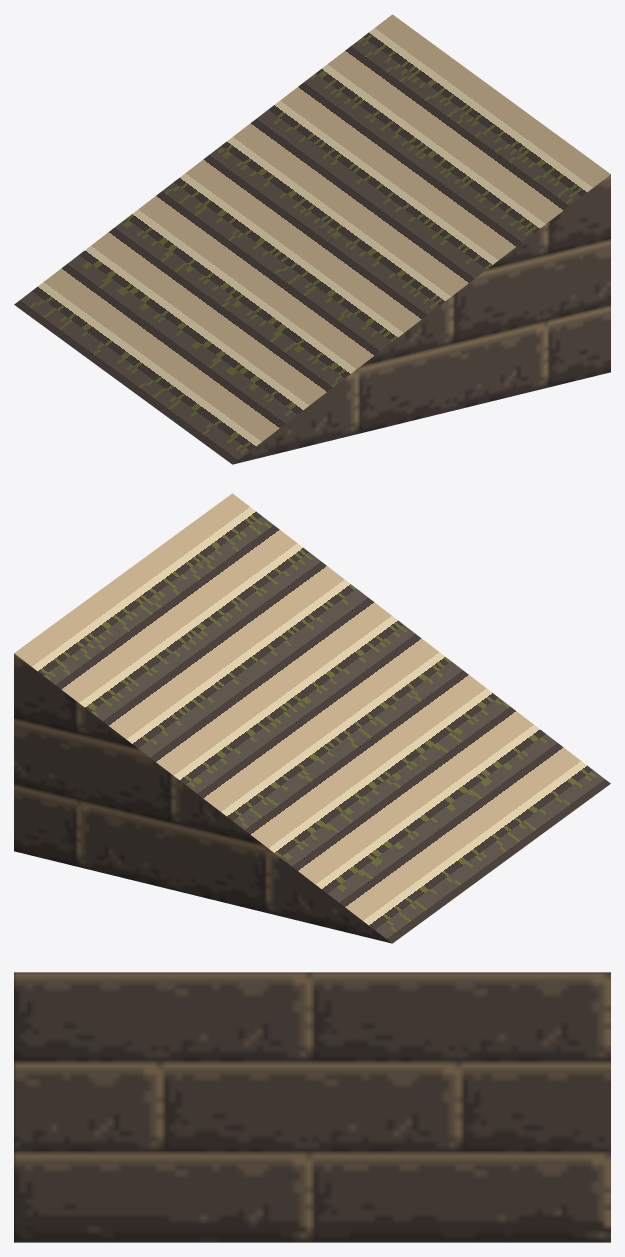
File: Treppe.fbx
The picture shows the model from 3 angles, top to bottom: view 1: azimuth 30°, elevation 25°; view 2: azimuth 150°, elevation 25°; view 3: azimuth 270°, elevation 25°; orthographic projection. The views are drawn at different scales.
Visible parts, largest first — view 1: Treppe; view 2: Treppe; view 3: Treppe.
Part boxes in pixels (x1,y1,x2,y2): Treppe: [14, 14, 610, 464]; Treppe: [14, 493, 610, 943]; Treppe: [14, 972, 610, 1242].
Size of the model in its own units: 4 by 2 by 4.
